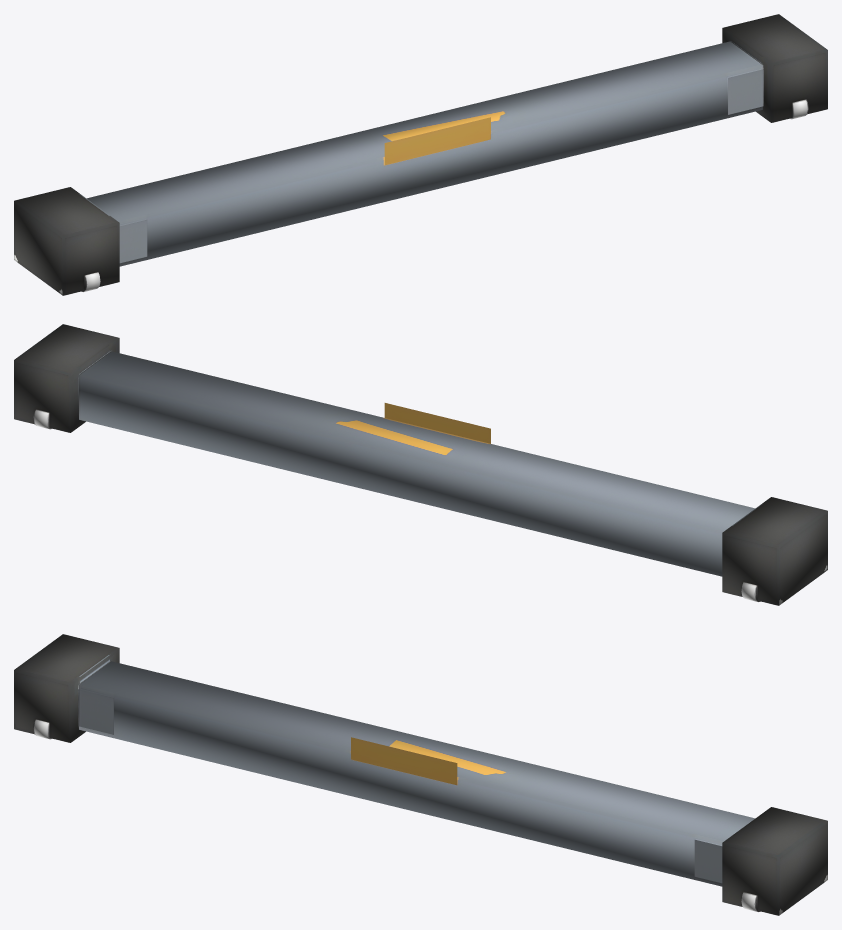
The model's file is yard-crane-body-tripo-original.glb.
3 renders of one model, top to bottom at view 1: azimuth 30°, elevation 25°; view 2: azimuth 150°, elevation 25°; view 3: azimuth 330°, elevation 25°, orthographic.
Visible parts, largest first — view 1: Authored_surface_032; view 2: Authored_surface_032; view 3: Authored_surface_032.
Part boxes in pixels (x1,y1,x2,y2): Authored_surface_032: (14, 14, 827, 295); Authored_surface_032: (14, 324, 827, 605); Authored_surface_032: (14, 634, 827, 915).
Bounding box in the file's own units: 1 × 0.088 × 0.1204.
Materials: 1 (1 with a texture image).
